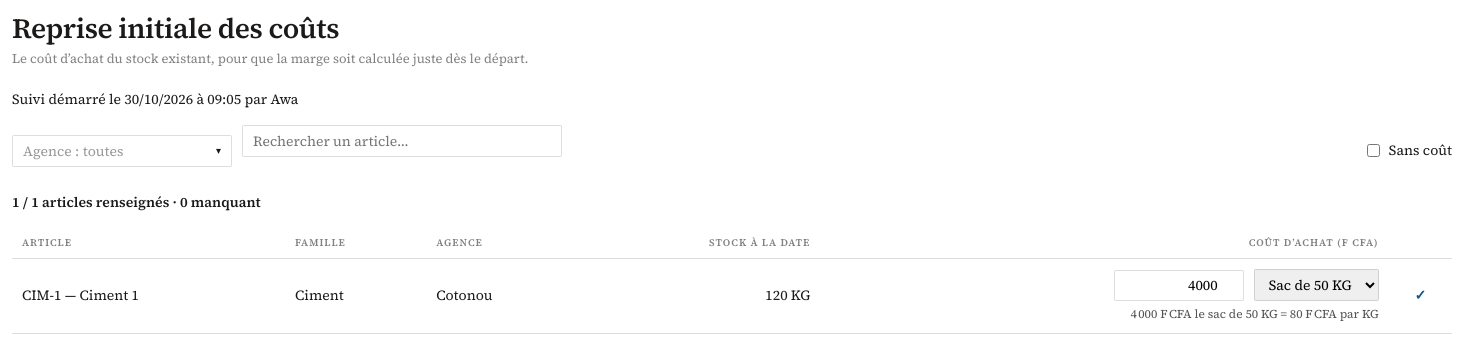
it: InitialCostsComponent › packaging of the cost › keeps the meaning of an unsaved price when the packaging changes
Step 1. Replace the text in the number field with class "cost-input" with "4500" → {"x": 1179, "y": 285}, box [1114,270,1244,301]
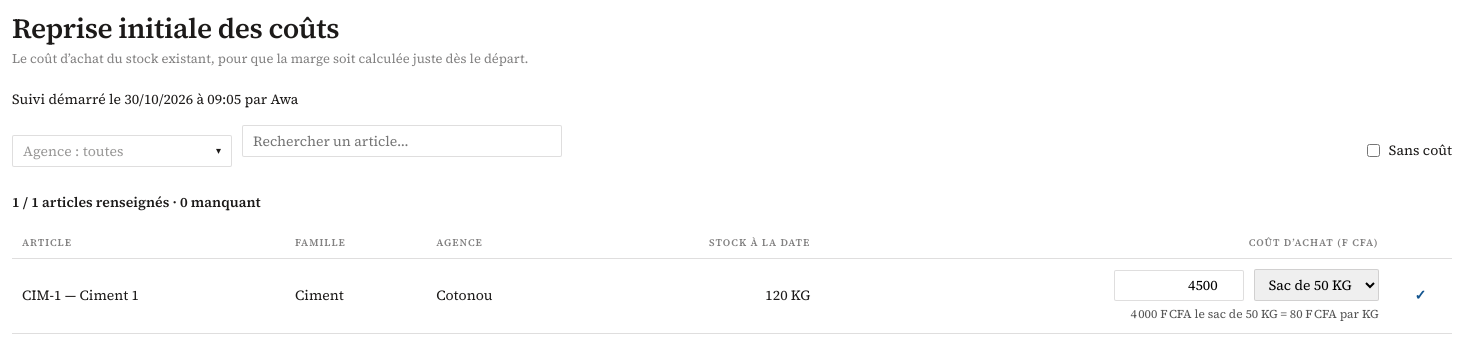
Step 2. Select "KG" in the dropdown with class "unit-select" → {"x": 1316, "y": 285}, box [1254,269,1379,301]
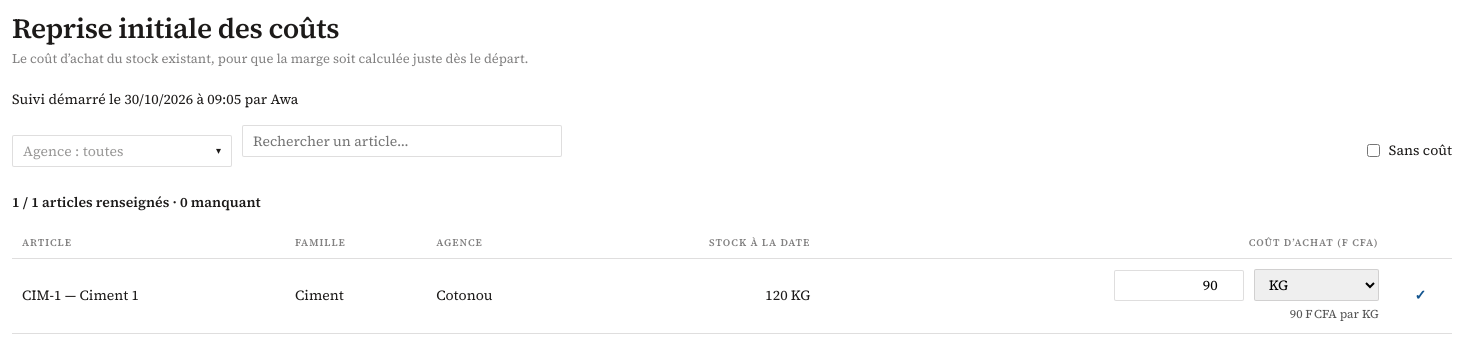
Expected: the number field with class "cost-input" holds "90", [1114,270,1244,301]
